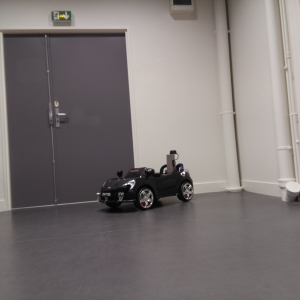big: (97, 164, 195, 210)
